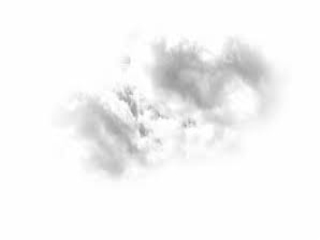smoke: (64, 36, 272, 187)
